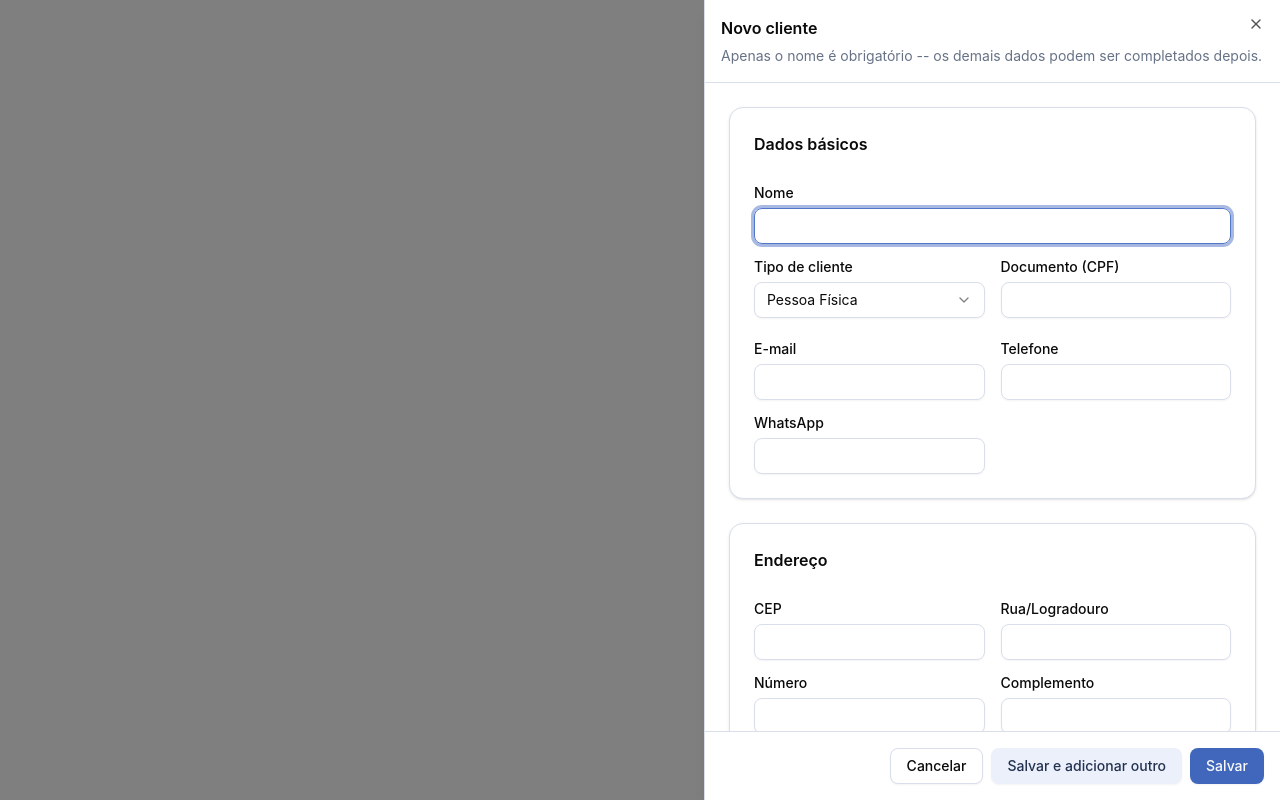
CustomerFormSheet › switches the document field to CNPJ when the type changes to Pessoa Jurídica
The width and height of the screenshot is (1280, 800).
Click the dropdown at {"x": 869, "y": 300}, box [754,282,984,318]
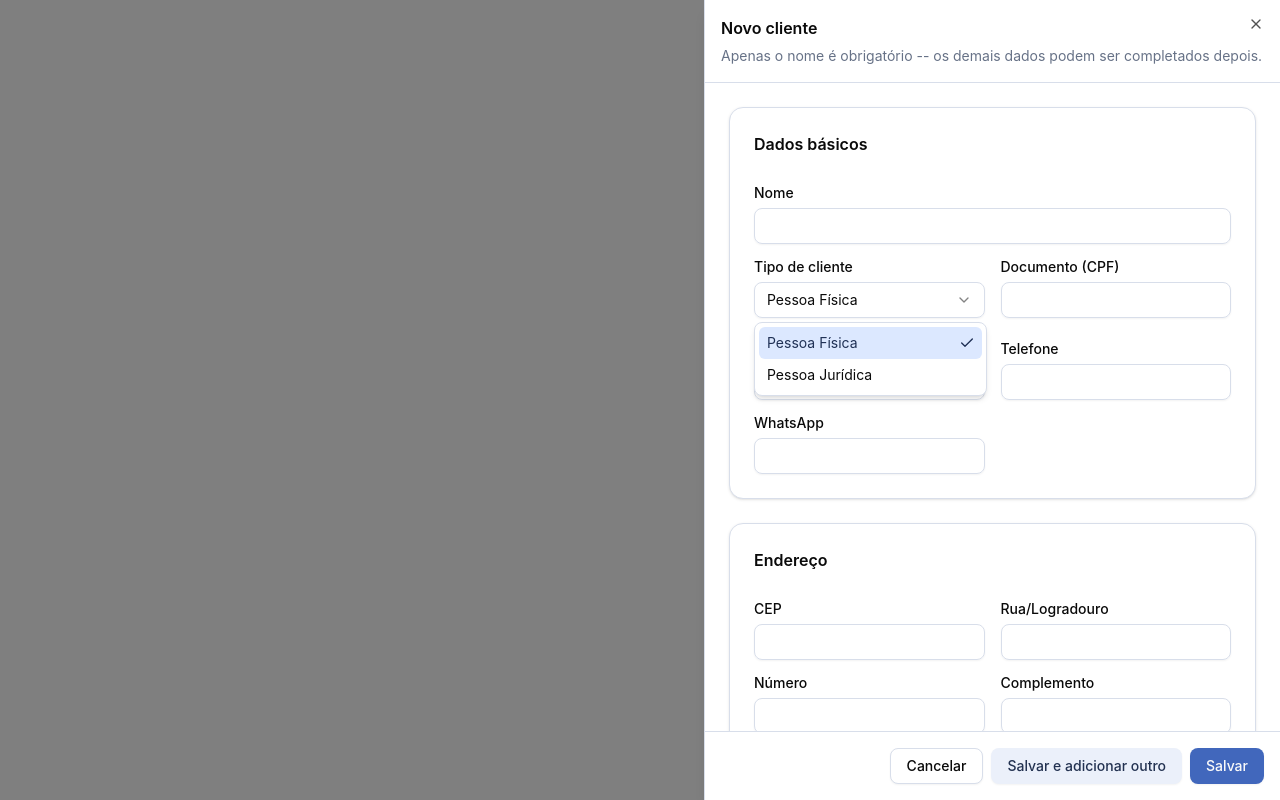
Click the option "Pessoa Jurídica" at {"x": 820, "y": 374}, box [767,366,872,383]
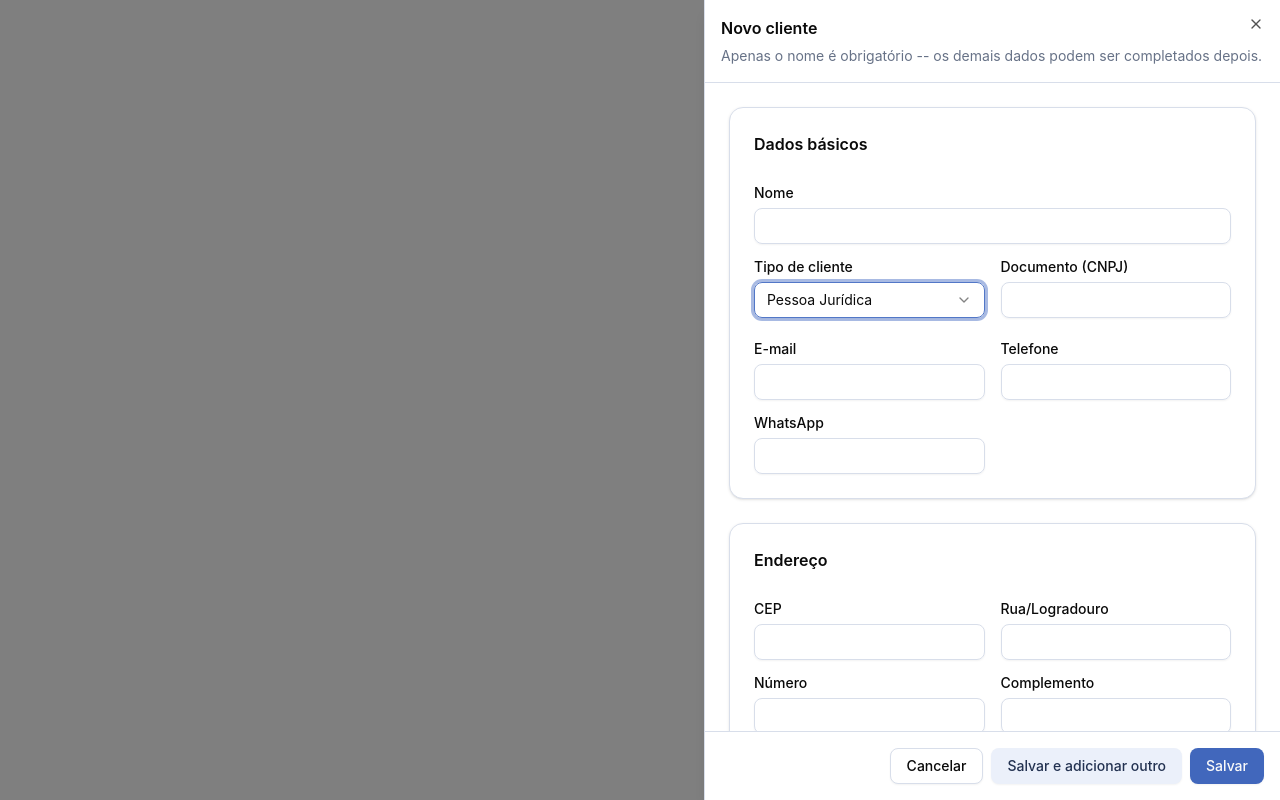
Result: the text "Documento (CNPJ)" is shown at [1000,258,1128,275]
